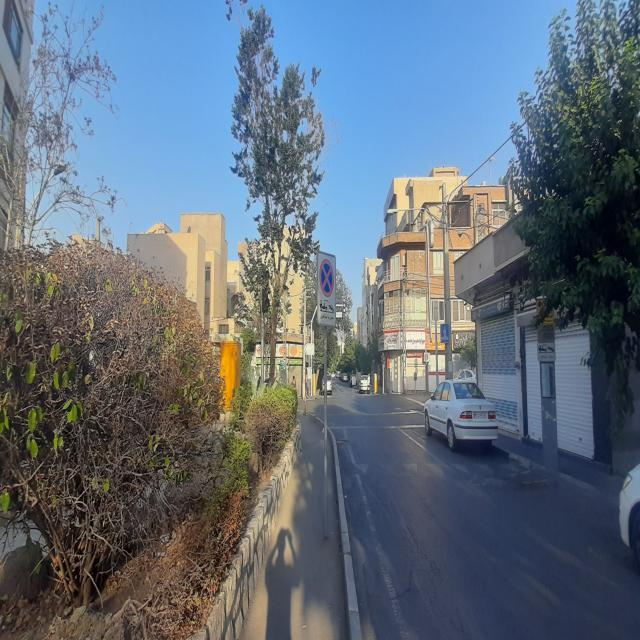no stopping: (317, 253, 337, 329)
